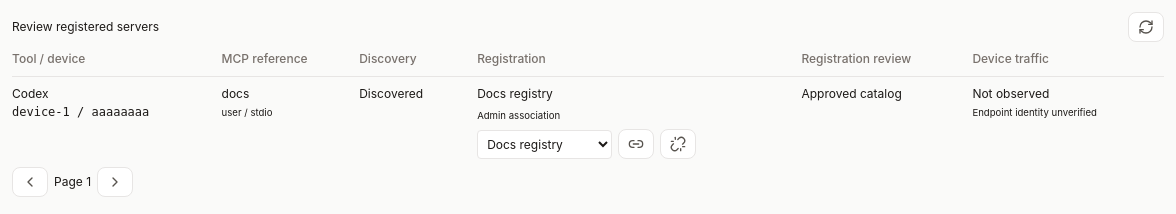
Test case: unlinks without deleting a registration
This screenshot has width=1176, height=214.
Expected: the text "Approved catalog" is shown, [801,76,972,167]
Click the button named "Unlink docs". click: click(678, 144)
box: [660,129,696,159]
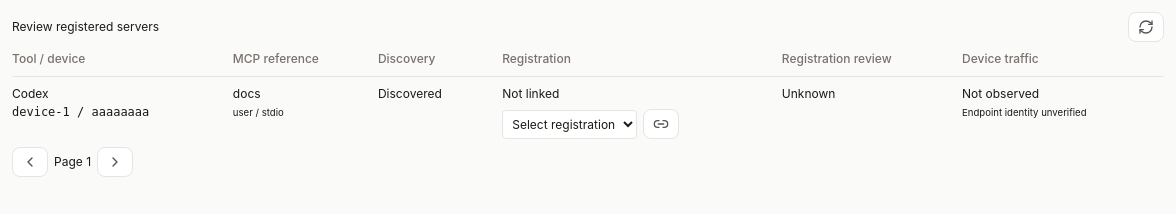
Expected: the text "Not linked" is shown, [502,86,559,101]
